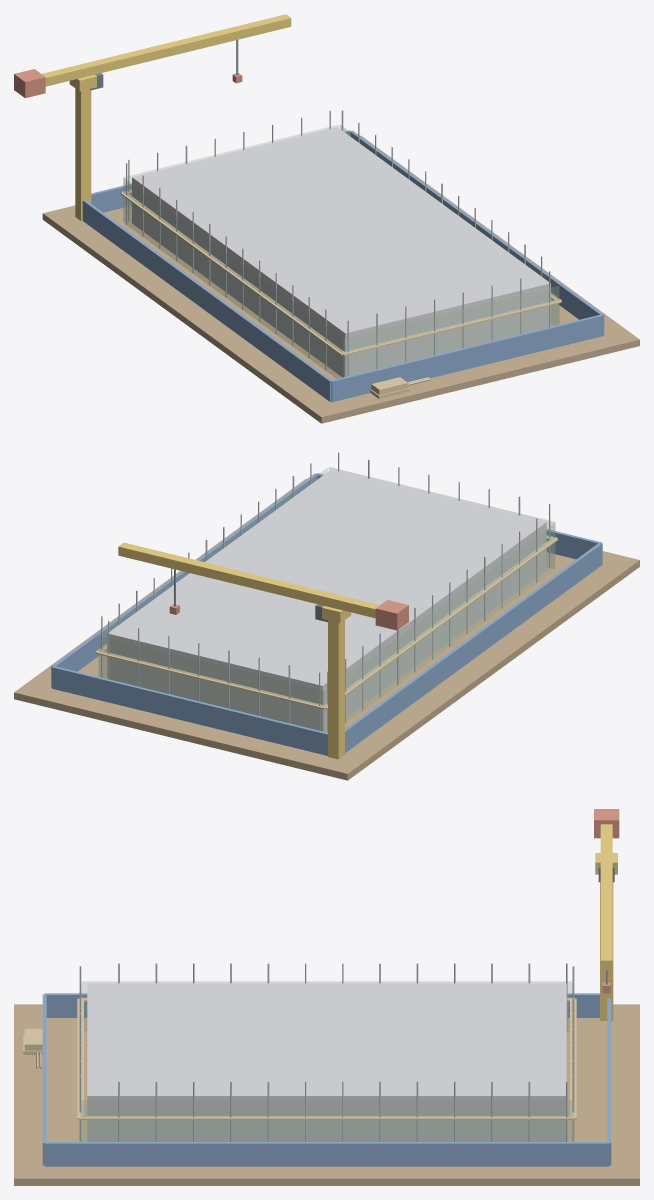
File: num-4-construction.glb
3 renders of one model, top to bottom at view 1: azimuth 30°, elevation 25°; view 2: azimuth 150°, elevation 25°; view 3: azimuth 270°, elevation 25°, orthographic. The views are drawn at different scales.
Size of the model in its own units: 34.7 by 15.15 by 47.
